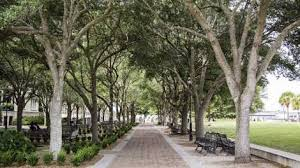forest: (5, 6, 291, 157)
tree: (11, 6, 102, 158), (185, 1, 276, 152)
